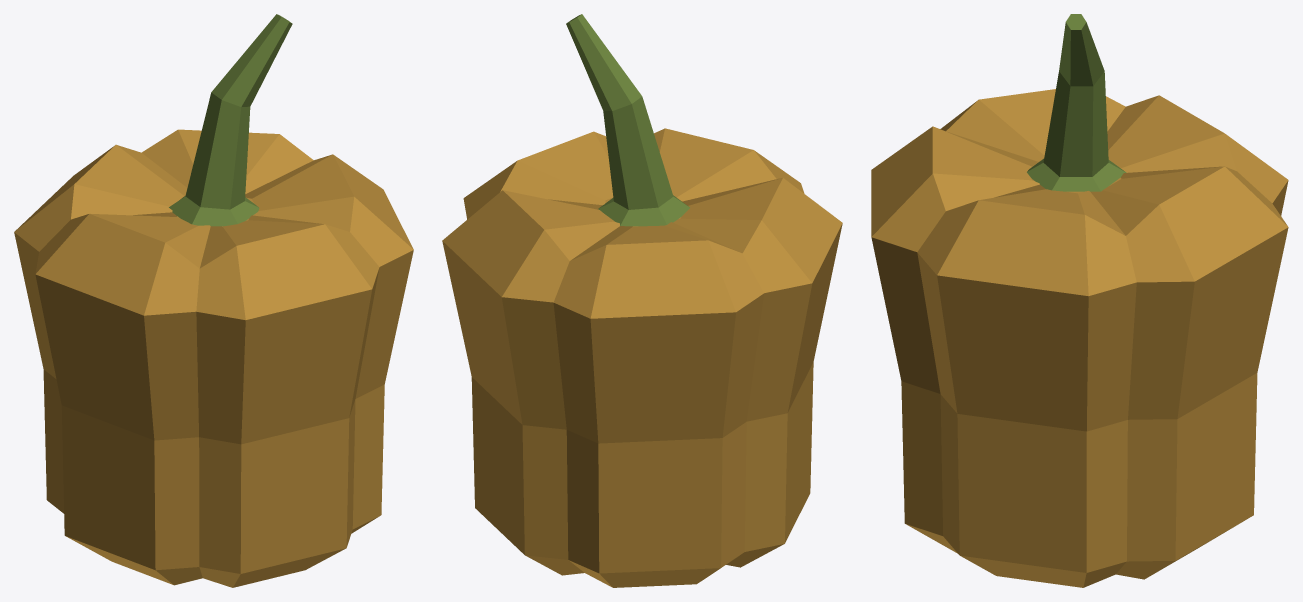
Rendered from SM_Envr_Nature_Farm_Vegetable_Capsicum_01.fbx.
The picture shows the model from 3 angles, left to right: view 1: azimuth 30°, elevation 25°; view 2: azimuth 150°, elevation 25°; view 3: azimuth 270°, elevation 25°; orthographic projection. The views are drawn at different scales.
Parts seen in each view (by area): view 1: SM_Envr_Nature_Farm_Vegetable_Capsicum_01; view 2: SM_Envr_Nature_Farm_Vegetable_Capsicum_01; view 3: SM_Envr_Nature_Farm_Vegetable_Capsicum_01.
Part boxes in pixels (box(x1,y1,x2,y2)): SM_Envr_Nature_Farm_Vegetable_Capsicum_01: box(14, 14, 413, 587); SM_Envr_Nature_Farm_Vegetable_Capsicum_01: box(442, 14, 842, 587); SM_Envr_Nature_Farm_Vegetable_Capsicum_01: box(871, 14, 1288, 587).
Bounding box in the file's own units: 7.7 × 10.74 × 7.32.
